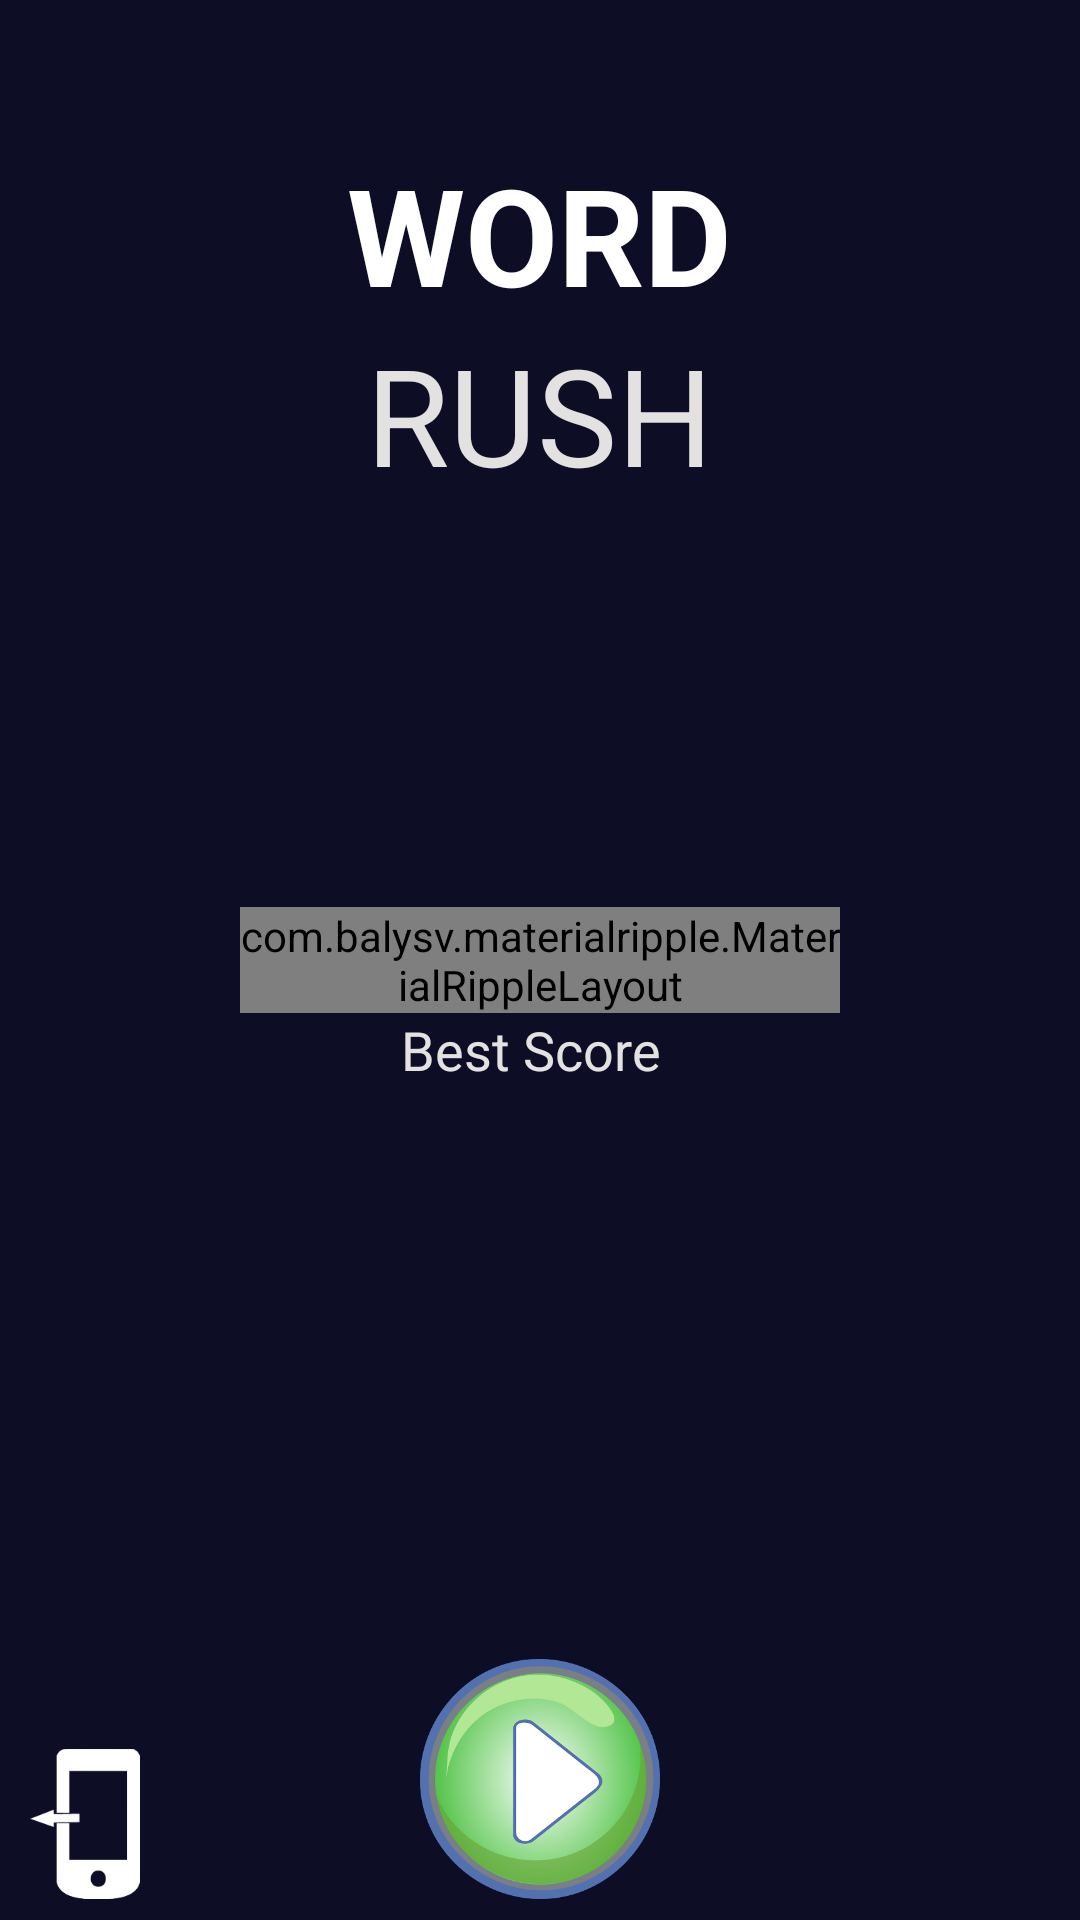

Named icons in this screenshot (1080 x 1920) and their bounding boxes, [x1,y1,x2,y2]:
play: [420,1659,660,1899]
